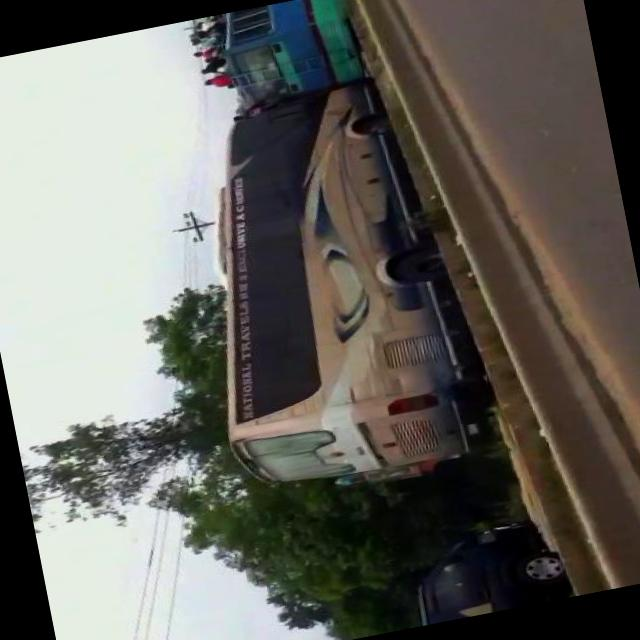bus: (166, 64, 497, 501), (213, 0, 370, 114)
